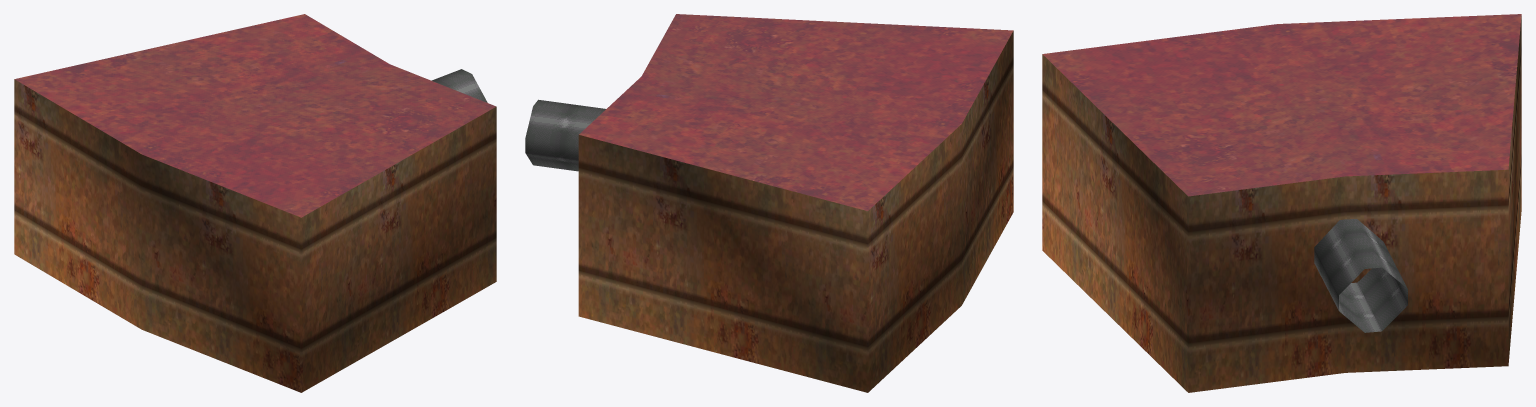
Rendered from BuoyBowlMovingPartsA.obj.
3 renders of one model, left to right at view 1: azimuth 30°, elevation 25°; view 2: azimuth 150°, elevation 25°; view 3: azimuth 270°, elevation 25°, orthographic. The views are drawn at different scales.
Visible parts, largest first — view 1: FloatyLandPlanet.001_Circle.006, FloatyLandPlanet.003_Circle.003, FloatyLandPlanet.000_Circle.004; view 2: FloatyLandPlanet.001_Circle.006, FloatyLandPlanet.003_Circle.003, FloatyLandPlanet.000_Circle.004; view 3: FloatyLandPlanet.001_Circle.006, FloatyLandPlanet.003_Circle.003, FloatyLandPlanet.000_Circle.004.
Part boxes in pixels (x1,y1,x2,y2): FloatyLandPlanet.001_Circle.006: (14,79,496,392); FloatyLandPlanet.003_Circle.003: (14,14,495,217); FloatyLandPlanet.000_Circle.004: (431,69,487,102); FloatyLandPlanet.001_Circle.006: (578,31,1013,392); FloatyLandPlanet.003_Circle.003: (579,14,1013,210); FloatyLandPlanet.000_Circle.004: (525,99,605,171); FloatyLandPlanet.001_Circle.006: (1042,16,1521,392); FloatyLandPlanet.003_Circle.003: (1042,14,1521,196); FloatyLandPlanet.000_Circle.004: (1314,219,1407,332).
Size of the model in its own units: 564 by 241 by 533.
Materials: 3 (3 with a texture image).
